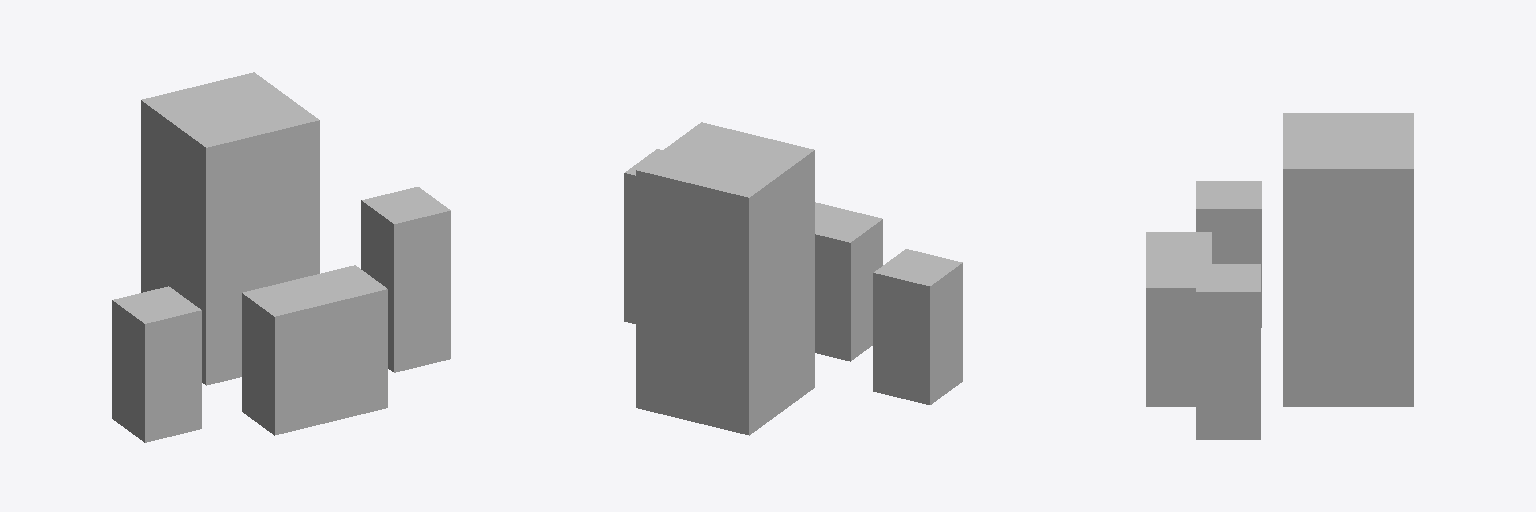
Rendered from przeciwnik.obj.
3 renders of one model, left to right at view 1: azimuth 30°, elevation 25°; view 2: azimuth 150°, elevation 25°; view 3: azimuth 270°, elevation 25°, orthographic.
Visible parts, largest first — view 1: Cube.003, Cube, Cube.002, Cube.001; view 2: Cube.003, Cube.001, Cube, Cube.002; view 3: Cube.003, Cube.002, Cube, Cube.001.
Boxes of the visible parts, box(x1,y1,x2,y2) form: Cube.003: box(141, 72, 319, 385); Cube: box(242, 265, 387, 435); Cube.002: box(361, 187, 450, 372); Cube.001: box(112, 286, 201, 442); Cube.003: box(636, 122, 814, 435); Cube.001: box(873, 249, 962, 404); Cube: box(815, 202, 882, 361); Cube.002: box(624, 149, 662, 323); Cube.003: box(1283, 113, 1413, 406); Cube.002: box(1196, 264, 1260, 439); Cube: box(1146, 232, 1211, 406); Cube.001: box(1196, 181, 1261, 327).
Bounding box in the file's own units: 2.69 × 2 × 2.04.